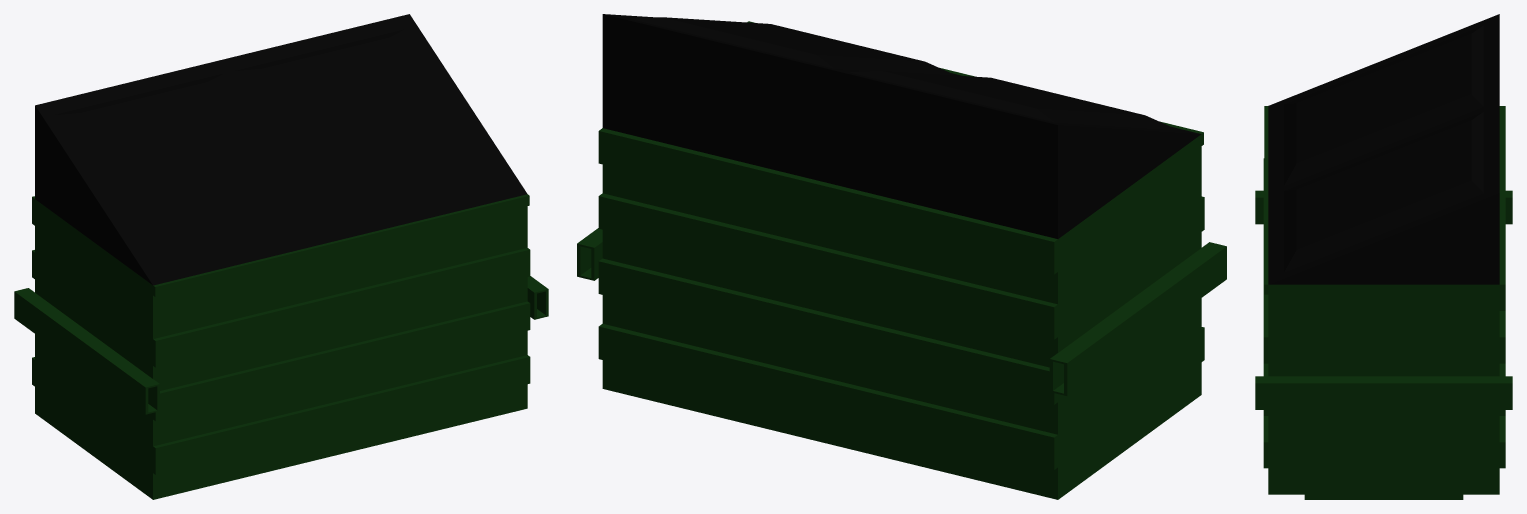
File: basura 3.fbx
The picture shows the model from 3 angles, left to right: view 1: azimuth 30°, elevation 25°; view 2: azimuth 150°, elevation 25°; view 3: azimuth 270°, elevation 25°; orthographic projection. The views are drawn at different scales.
Parts seen in each view (by area): view 1: Cube; view 2: Cube; view 3: Cube.
Boxes of the visible parts, <box> form: Cube: <box>14,14,548,499</box>; Cube: <box>577,14,1226,499</box>; Cube: <box>1255,14,1512,499</box>.
Bounding box in the file's own units: 3046 × 2347 × 1719.
